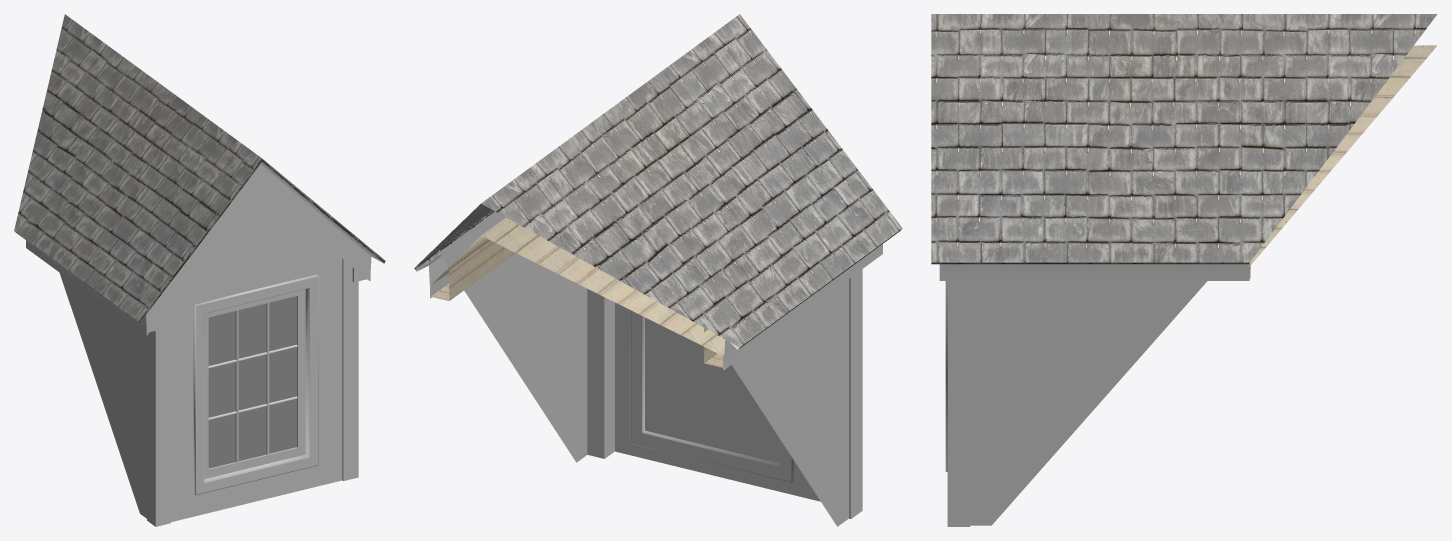
The model's file is Roof_Extra_Window_Single.FBX.
3 views of the same model, side by side, from view 1: azimuth 30°, elevation 25°; view 2: azimuth 150°, elevation 25°; view 3: azimuth 270°, elevation 25° (orthographic). The views are drawn at different scales.
Parts seen in each view (by area): view 1: Roof_Extra_Window_Single; view 2: Roof_Extra_Window_Single; view 3: Roof_Extra_Window_Single.
Boxes of the visible parts, <box> form: Roof_Extra_Window_Single: <box>14,14,385,526</box>; Roof_Extra_Window_Single: <box>414,14,902,526</box>; Roof_Extra_Window_Single: <box>931,14,1437,526</box>.
Bounding box in the file's own units: 211 × 284 × 291.
